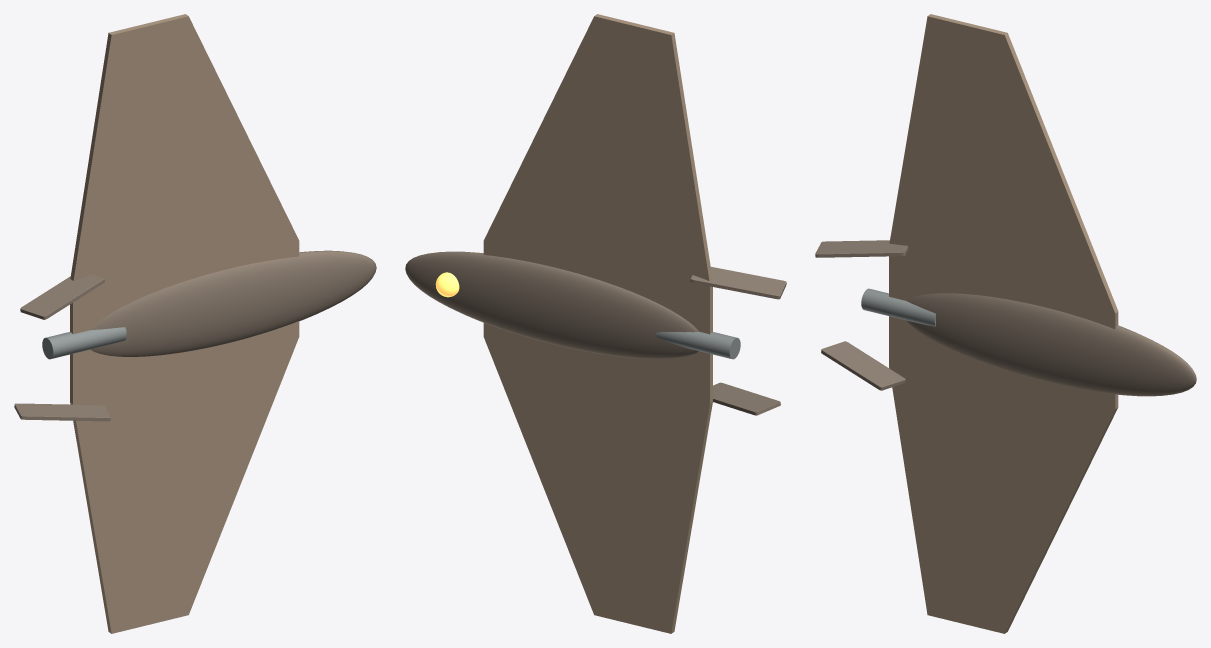
The model's file is d-u22-dominion-recon-drone-lod1.glb.
3 renders of one model, left to right at view 1: azimuth 30°, elevation 25°; view 2: azimuth 150°, elevation 25°; view 3: azimuth 330°, elevation 25°, orthographic.
Visible parts, largest first — view 1: recon_drone_wing, recon_drone_spine, recon_drone_vtail_1, recon_engine_0, recon_drone_vtail_-1; view 2: recon_drone_wing, recon_drone_spine, recon_drone_vtail_1, recon_engine_0, recon_drone_vtail_-1; view 3: recon_drone_wing, recon_drone_spine, recon_drone_vtail_-1, recon_engine_0, recon_drone_vtail_1.
Part boxes in pixels (x1,y1,x2,y2): recon_drone_wing: [70, 14, 299, 633]; recon_drone_spine: [90, 250, 376, 356]; recon_drone_vtail_1: [20, 274, 104, 319]; recon_engine_0: [42, 327, 126, 359]; recon_drone_vtail_-1: [14, 403, 110, 421]; recon_drone_wing: [483, 14, 712, 633]; recon_drone_spine: [405, 251, 698, 358]; recon_drone_vtail_1: [690, 267, 786, 299]; recon_engine_0: [656, 332, 740, 359]; recon_drone_vtail_-1: [713, 382, 780, 415]; recon_drone_wing: [889, 14, 1118, 633]; recon_drone_spine: [906, 293, 1196, 396]; recon_drone_vtail_-1: [821, 341, 905, 390]; recon_engine_0: [861, 288, 935, 326]; recon_drone_vtail_1: [815, 240, 908, 257].
Size of what is drawn, in the model's own units: 7.62 by 11.92 by 1.32.
